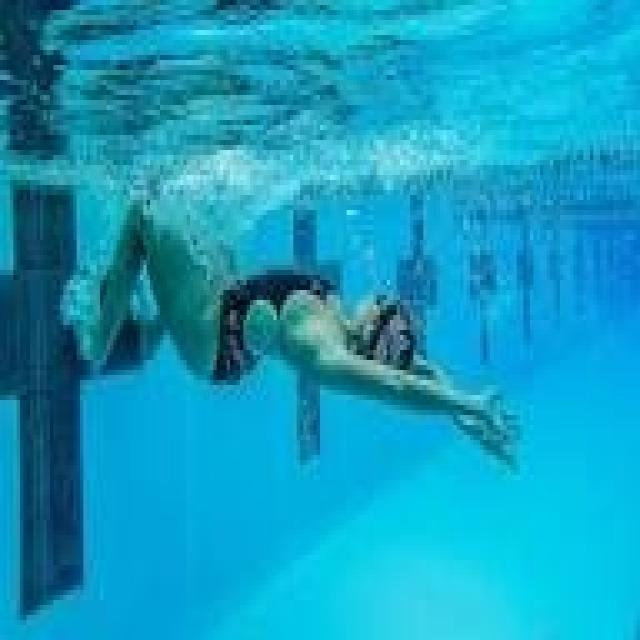human: (72, 197, 523, 471)
